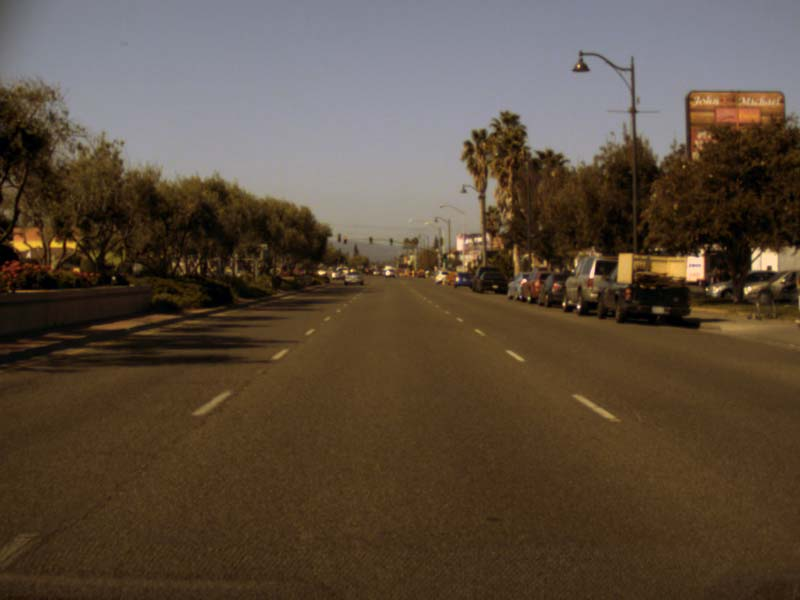Green: (368, 236, 372, 244), (389, 238, 393, 246), (442, 254, 446, 262)
Red: (343, 236, 346, 243)
